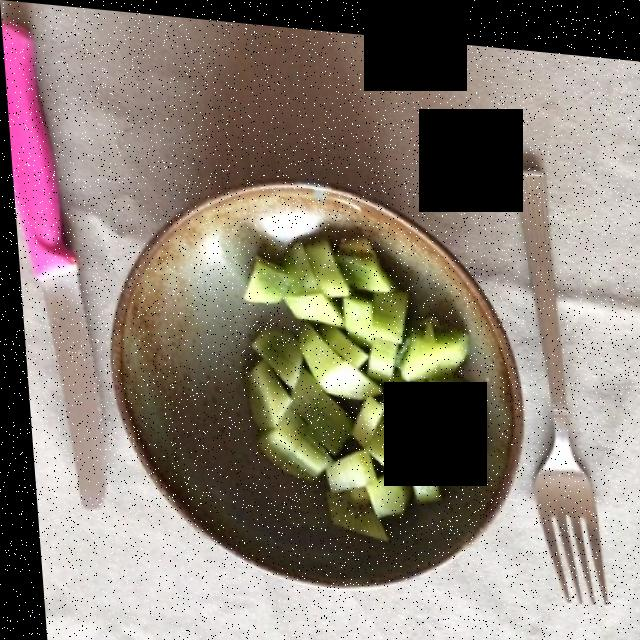kiwi: (236, 230, 480, 525)
